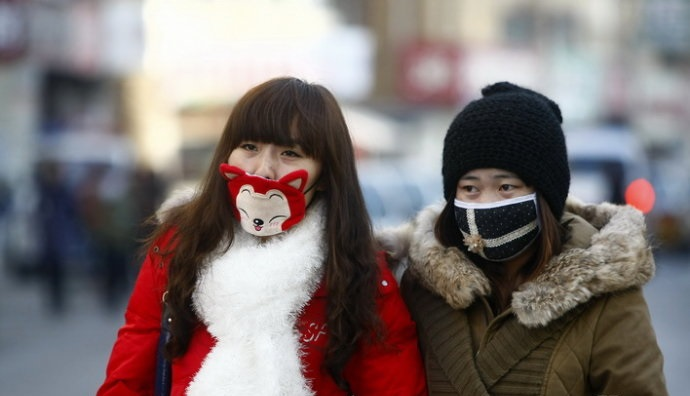face_mask: (219, 114, 316, 236), (455, 162, 533, 258)
